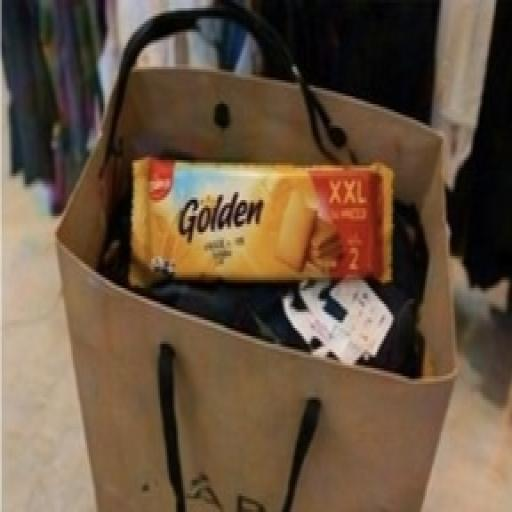golden: (119, 112, 419, 345)
